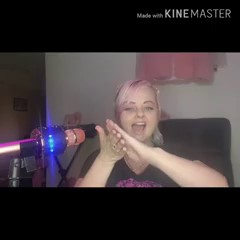H: (93, 117, 152, 166)
